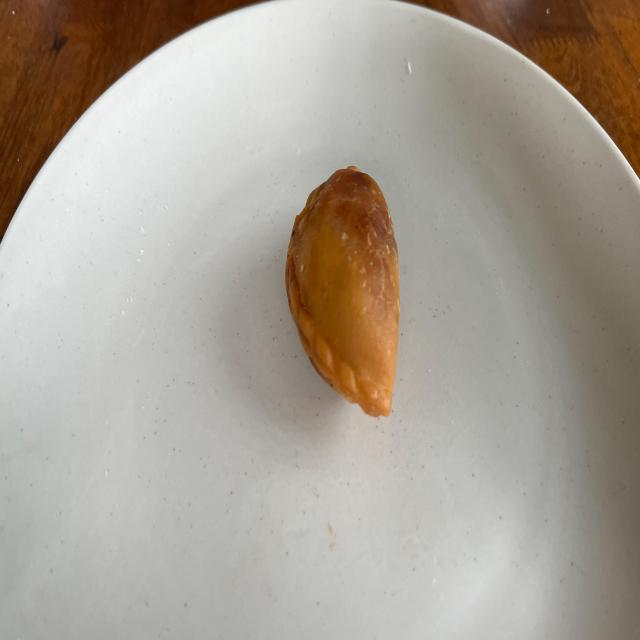karipap: (285, 167, 400, 416)
